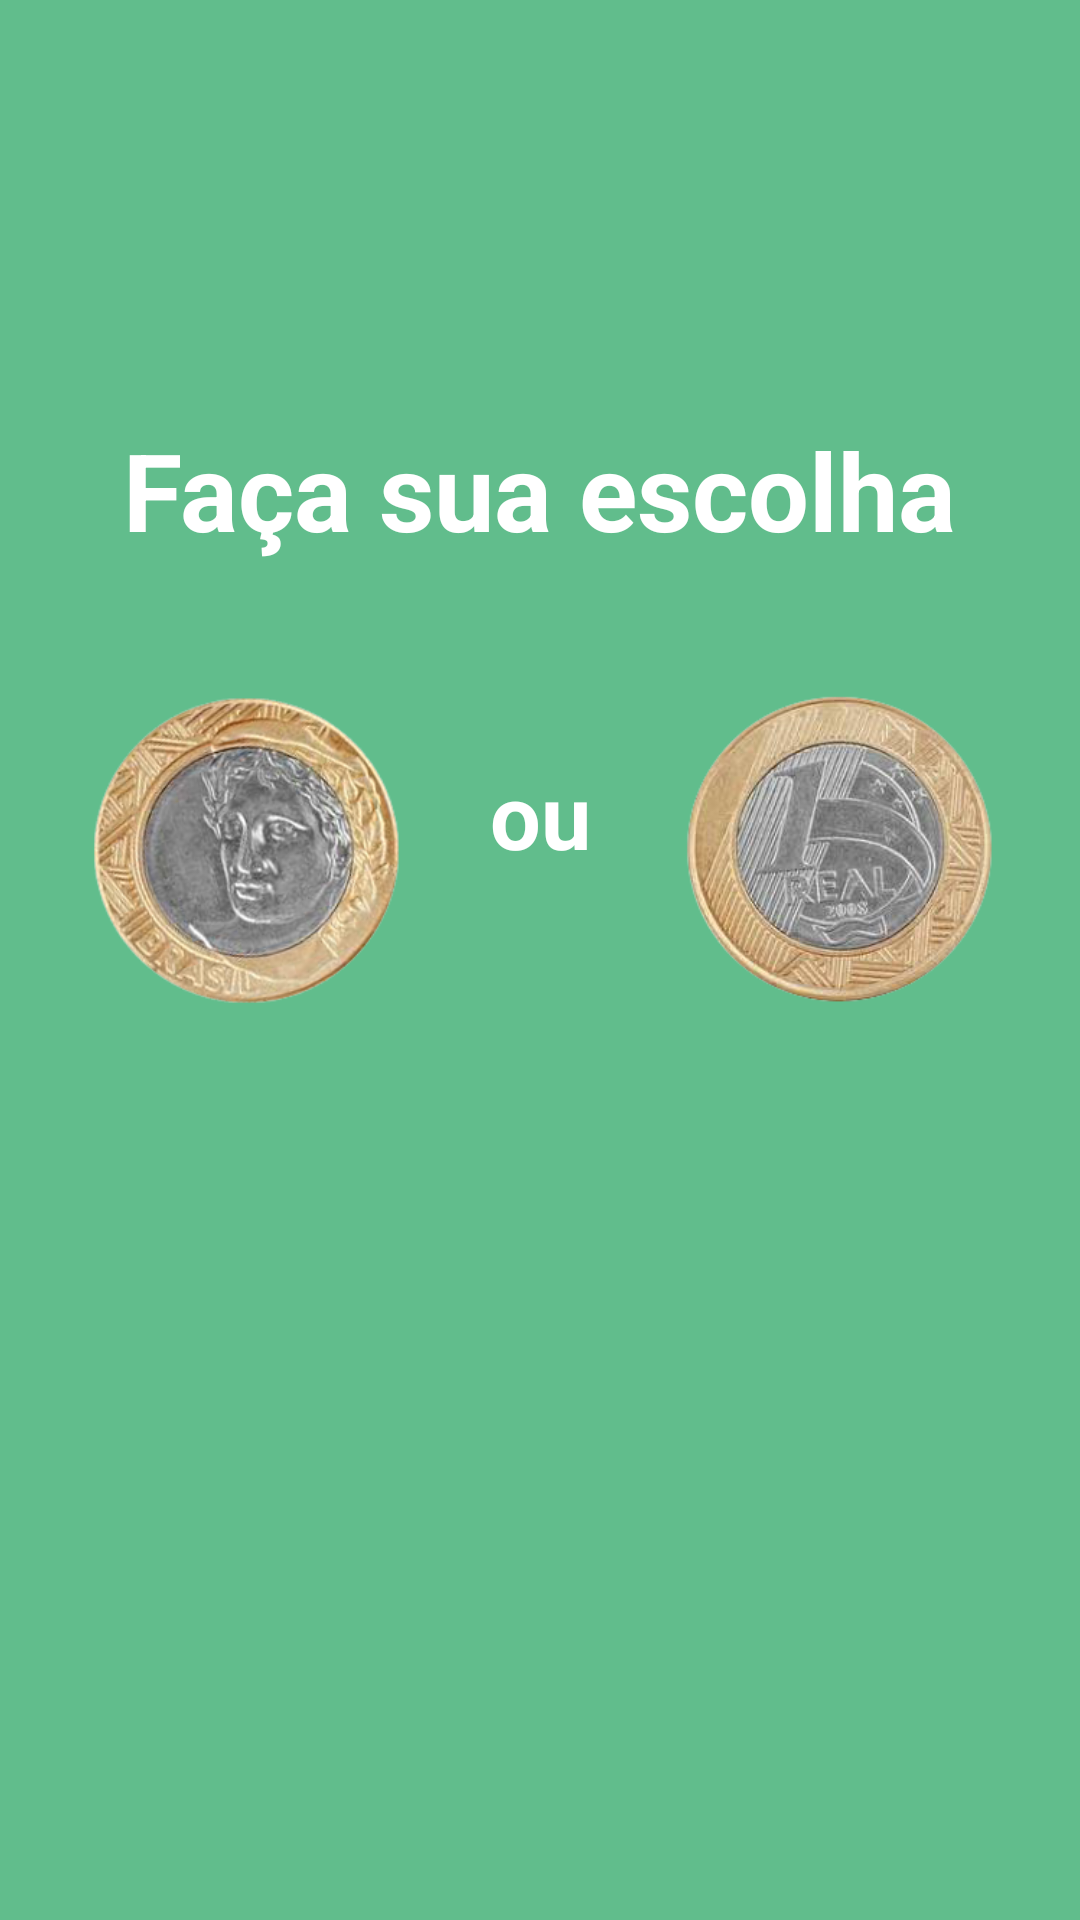

Named icons in this screenshot (1080x1920) and their bounding boxes, (x1, y1, x2, y2):
moeda cara: (94, 698, 399, 1003)
moeda coroa: (687, 697, 992, 1002)
